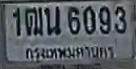0: (82, 5, 95, 34)
1: (12, 7, 20, 35)
3: (114, 5, 126, 33)
6: (67, 6, 79, 34)
9: (98, 5, 110, 33)
A18: (24, 6, 42, 35)
A25: (44, 6, 60, 34)
BKK: (23, 43, 117, 63)
